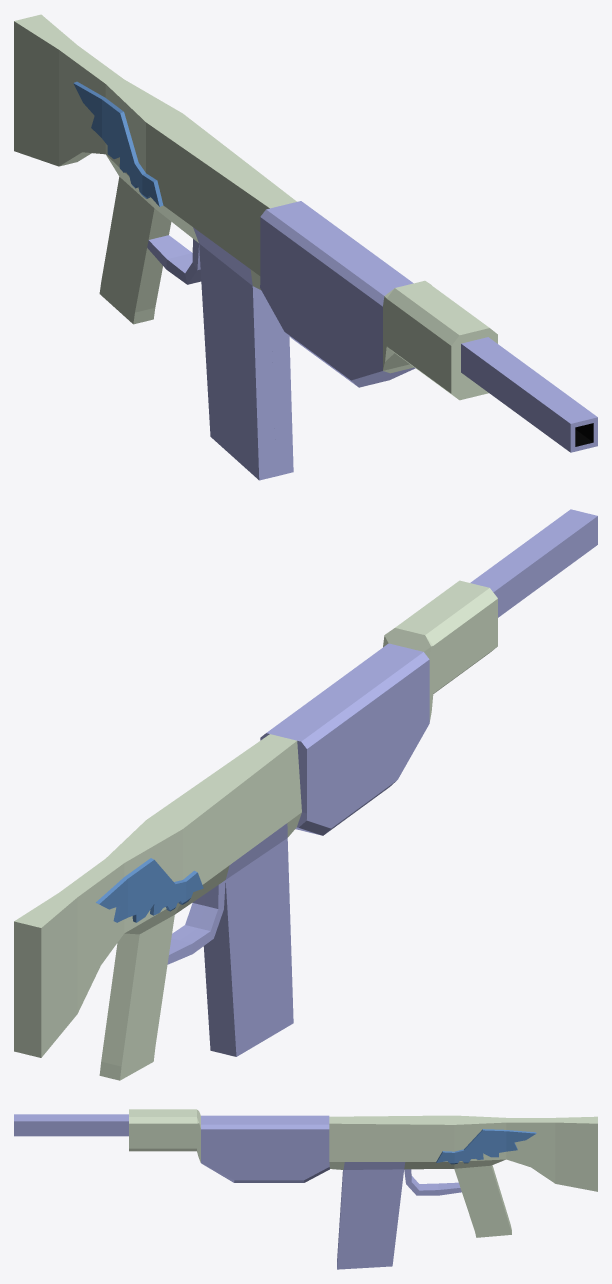
File: SM_Rifle_01.fbx
3 renders of one model, top to bottom at view 1: azimuth 30°, elevation 25°; view 2: azimuth 150°, elevation 25°; view 3: azimuth 270°, elevation 25°, orthographic. The views are drawn at different scales.
Parts seen in each view (by area): view 1: SM_Rifle_01; view 2: SM_Rifle_01; view 3: SM_Rifle_01.
Boxes of the visible parts, <box> form: SM_Rifle_01: <box>14,14,597,480</box>; SM_Rifle_01: <box>14,509,597,1080</box>; SM_Rifle_01: <box>14,1109,597,1269</box>.
Bounding box in the file's own units: 0.2177 × 1.29 × 4.49.
